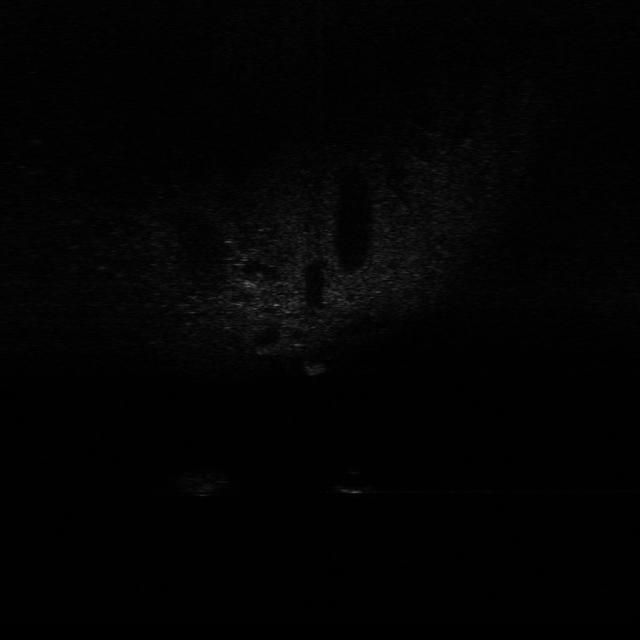ball: (331, 464, 378, 497)
circle cage: (174, 464, 232, 497)
cube: (300, 354, 334, 382)
